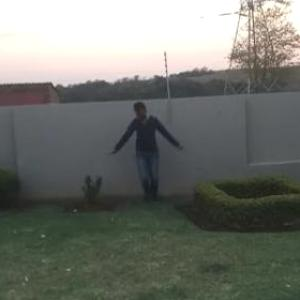land: (105, 93, 189, 210)
